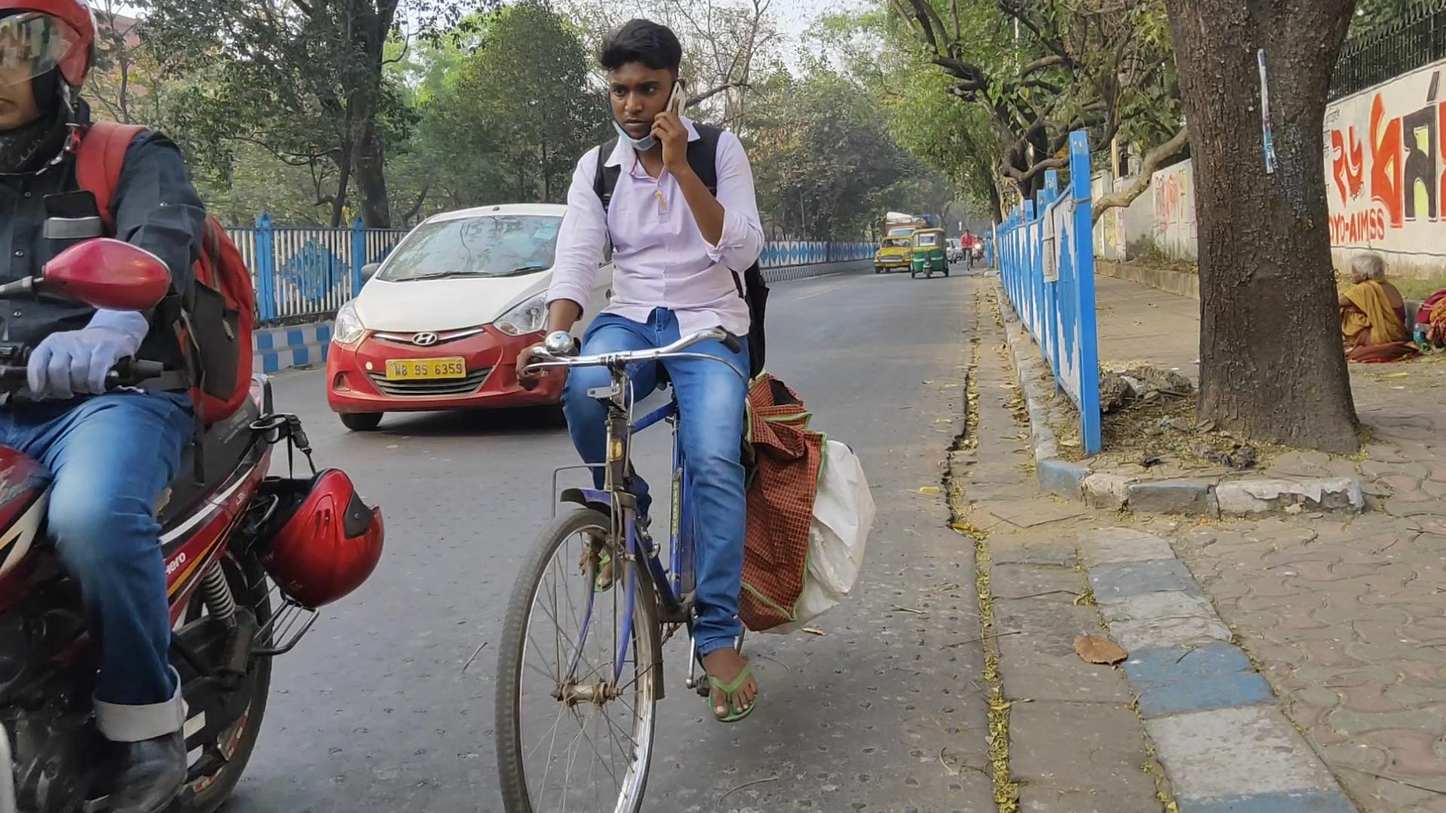Auto: (911, 227, 950, 279)
bike: (1, 1, 386, 813), (493, 17, 876, 813), (959, 229, 976, 273)
car: (326, 202, 645, 435), (874, 235, 914, 274)
